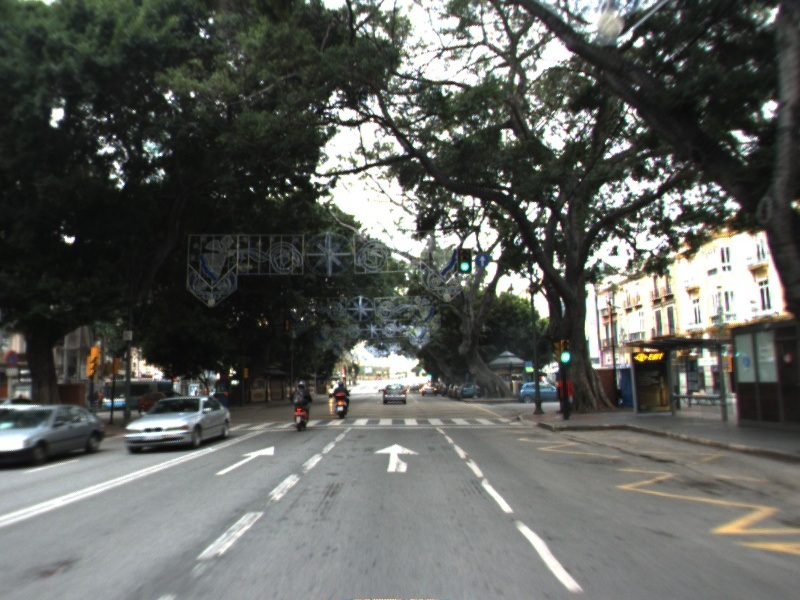STRAIGHT: (213, 444, 276, 476), (372, 442, 422, 474)
